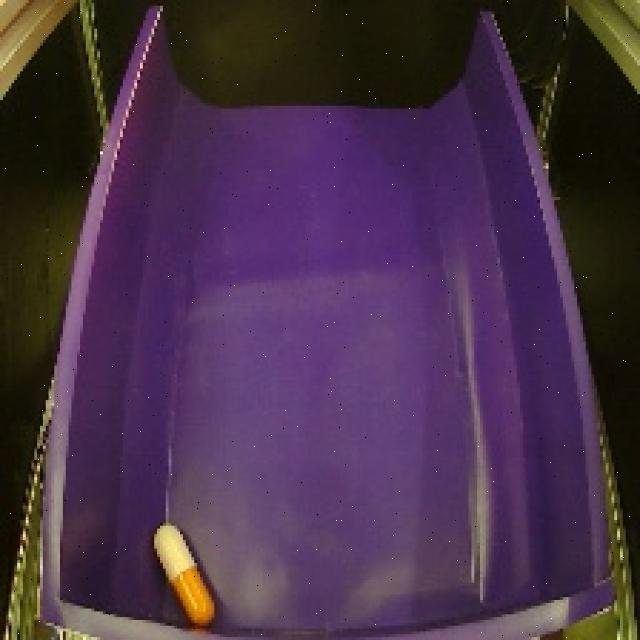small: (146, 512, 224, 628)
